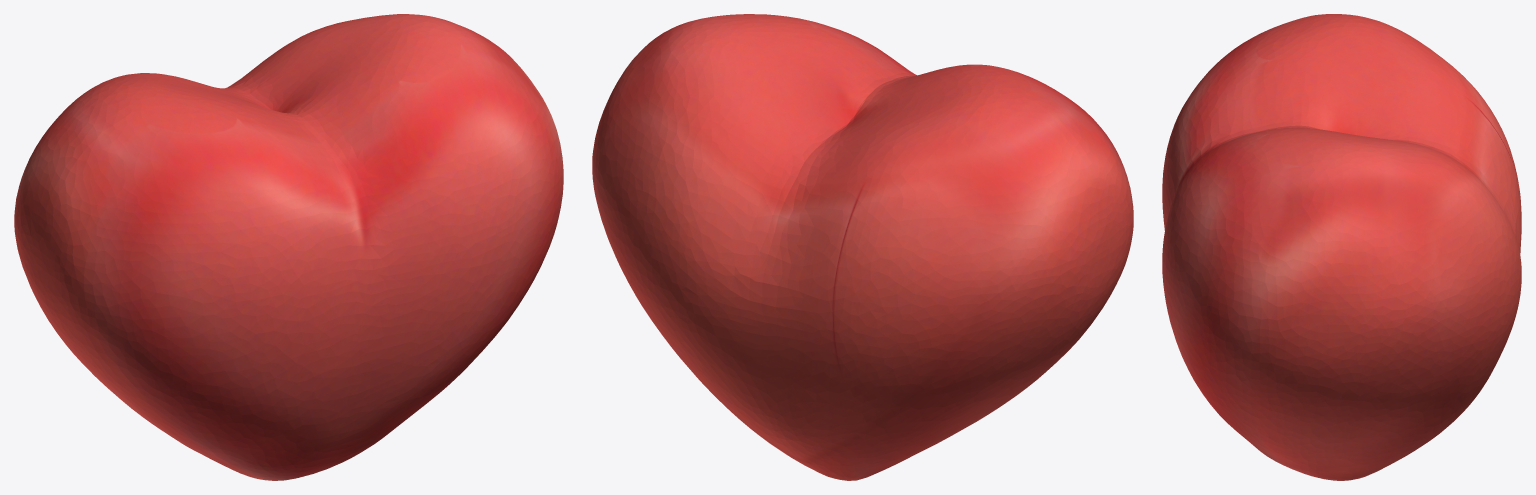
File: Heart_Symbol_0602081527_texture.fbx
3 views of the same model, side by side, from view 1: azimuth 30°, elevation 25°; view 2: azimuth 150°, elevation 25°; view 3: azimuth 270°, elevation 25° (orthographic). The views are drawn at different scales.
Visible parts, largest first — view 1: temp; view 2: temp; view 3: temp.
Boxes of the visible parts, x1,y1,x2,y2 form: temp: (14, 14, 563, 480); temp: (592, 14, 1133, 480); temp: (1162, 14, 1521, 480).
Size of the model in its own units: 200 by 162 by 135.
Materials: 1 (1 with a texture image).
